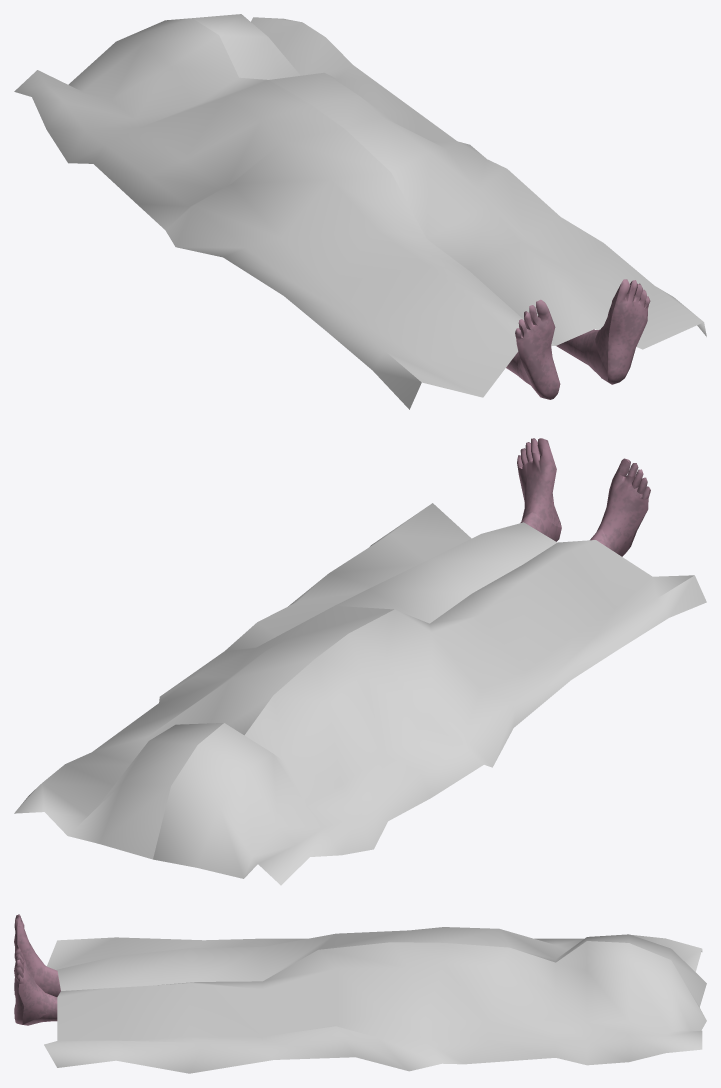
File: DeadBody.fbx
The picture shows the model from 3 angles, top to bottom: view 1: azimuth 30°, elevation 25°; view 2: azimuth 150°, elevation 25°; view 3: azimuth 270°, elevation 25°; orthographic projection. The views are drawn at different scales.
Visible parts, largest first — view 1: Torus; view 2: Torus; view 3: Torus.
Boxes of the visible parts, x1=… form: Torus: x1=14, y1=14, x2=706, y2=409; Torus: x1=14, y1=438, x2=706, y2=885; Torus: x1=14, y1=914, x2=706, y2=1073.
Size of the model in its own units: 74.39 by 24.37 by 181.
1 material, 1 textured.
